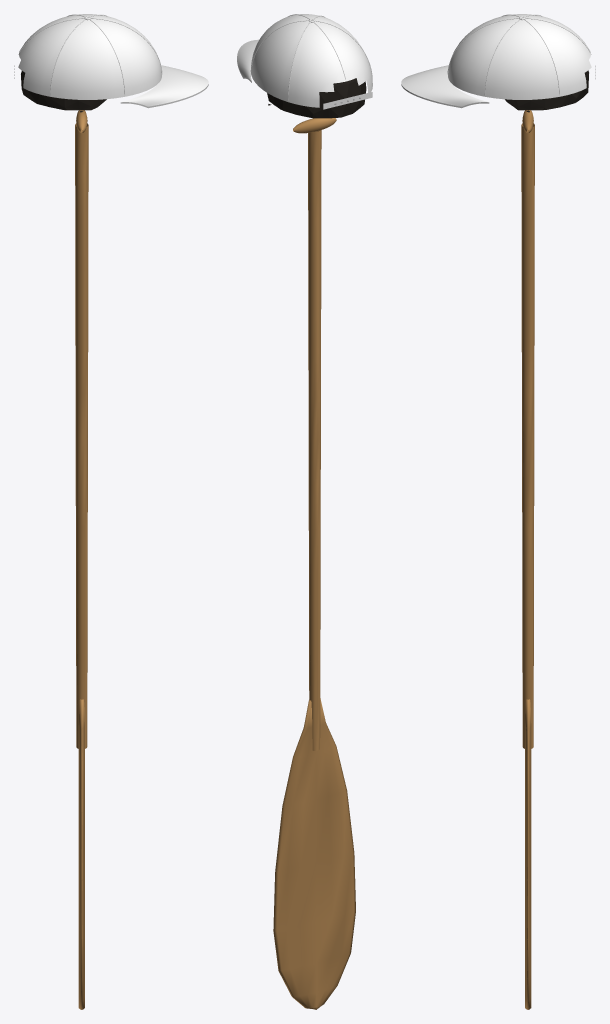
The model's file is athlete-details.glb.
3 views of the same model, side by side, from view 1: azimuth 90°, elevation 25°; view 2: azimuth 210°, elevation 25°; view 3: azimuth 270°, elevation 25° (orthographic).
Parts seen in each view (by area): view 1: Race_Cap, Race_Paddle, Race_Hair; view 2: Race_Paddle, Race_Cap, Race_Hair; view 3: Race_Cap, Race_Paddle, Race_Hair.
Part boxes in pixels (x1,y1,x2,y2): Race_Cap: (14,14,208,108); Race_Paddle: (75,110,88,1009); Race_Hair: (21,71,106,112); Race_Paddle: (273,118,355,1009); Race_Cap: (237,14,372,109); Race_Hair: (267,78,366,118); Race_Cap: (401,14,595,108); Race_Paddle: (521,110,534,1009); Race_Hair: (505,70,588,112).
Bounding box in the file's own units: 0.174 × 1.69 × 0.3004.
